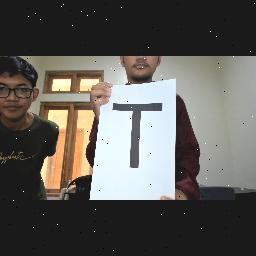t: (108, 98, 170, 174)
